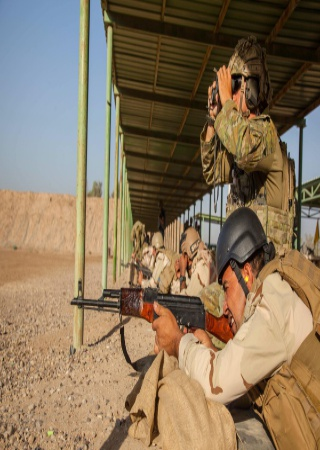rifle: (66, 279, 233, 352)
